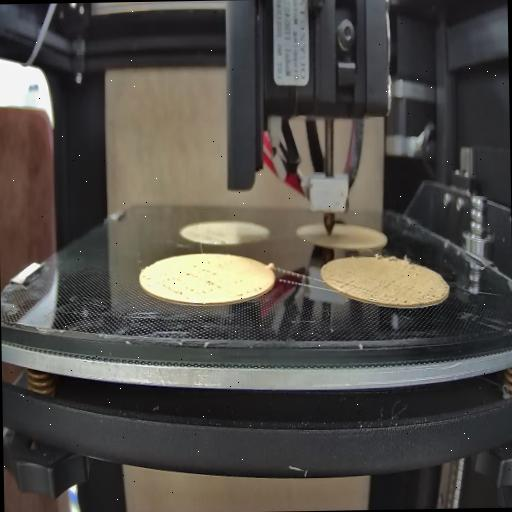under_extrusion: (160, 256, 224, 296), (374, 268, 434, 304), (330, 278, 366, 294), (235, 282, 262, 300)
